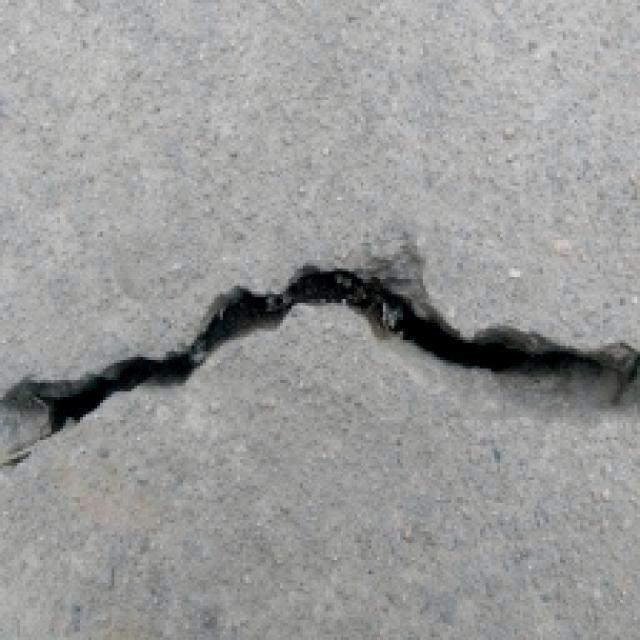SurfaceCrack: (0, 230, 638, 486)
